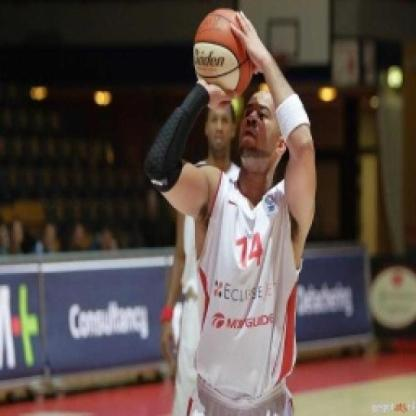basketball: (189, 1, 265, 100)
